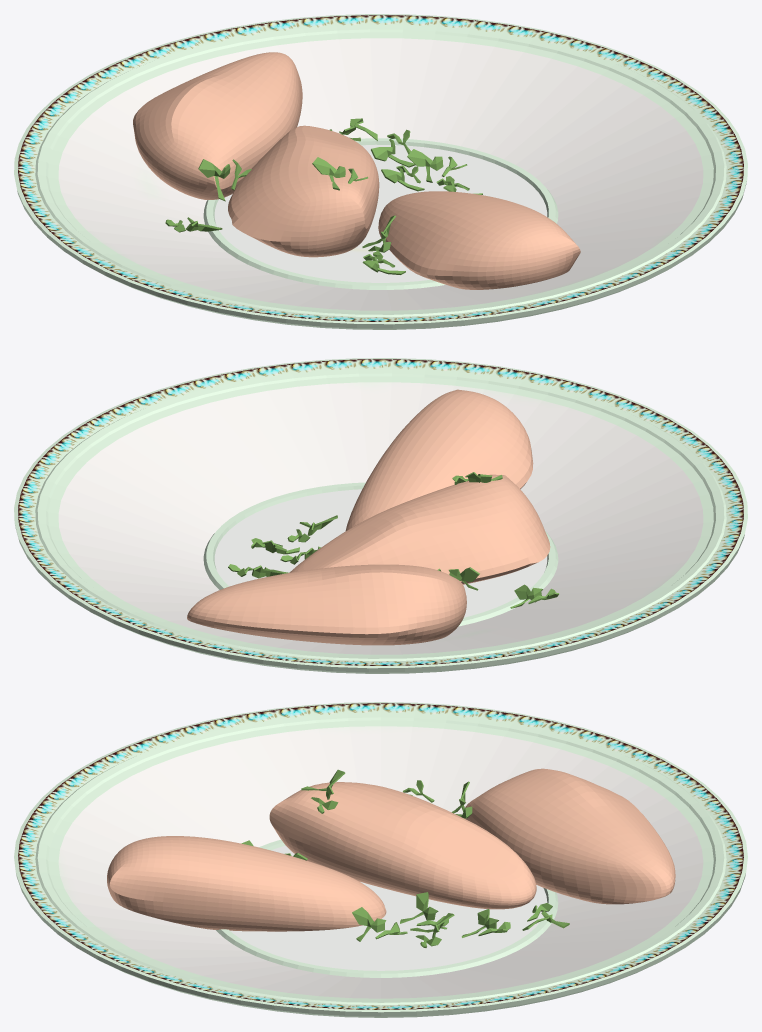
Rendered from Pechuga de pollo con perejil.fbx.
The picture shows the model from 3 angles, top to bottom: view 1: azimuth 30°, elevation 25°; view 2: azimuth 150°, elevation 25°; view 3: azimuth 270°, elevation 25°; orthographic projection.
Visible parts, largest first — view 1: Plane_Material.001_0, Cube.002_Material.002_0, Cube_Material.002_0, Cube.001_Material.002_0, Plane.004_Material.003_0, Plane.008_Material.003_0, Plane.002_Material.003_0, Plane.003_Material.003_0; view 2: Plane_Material.001_0, Cube.002_Material.002_0, Cube.001_Material.002_0, Cube_Material.002_0, Plane.005_Material.003_0; view 3: Plane_Material.001_0, Cube.001_Material.002_0, Cube_Material.002_0, Cube.002_Material.002_0, Plane.001_Material.003_0, Plane.006_Material.003_0, Plane.002_Material.003_0.
Part boxes in pixels (box(x1,y1,x2,y2)): Plane_Material.001_0: box(14, 14, 747, 329); Cube.002_Material.002_0: box(133, 52, 302, 199); Cube_Material.002_0: box(378, 191, 580, 289); Cube.001_Material.002_0: box(228, 125, 379, 257); Plane.004_Material.003_0: box(198, 159, 251, 201); Plane.008_Material.003_0: box(407, 149, 467, 182); Plane.002_Material.003_0: box(371, 129, 415, 167); Plane.003_Material.003_0: box(312, 157, 367, 190); Plane_Material.001_0: box(14, 358, 747, 673); Cube.002_Material.002_0: box(187, 564, 466, 645); Cube.001_Material.002_0: box(289, 474, 550, 584); Cube_Material.002_0: box(345, 389, 533, 530); Plane.005_Material.003_0: box(510, 584, 559, 608); Plane_Material.001_0: box(14, 702, 747, 1017); Cube.001_Material.002_0: box(269, 782, 536, 909); Cube_Material.002_0: box(107, 836, 386, 931); Cube.002_Material.002_0: box(464, 768, 675, 904); Plane.001_Material.003_0: box(352, 907, 407, 941); Plane.006_Material.003_0: box(400, 892, 448, 929); Plane.002_Material.003_0: box(461, 909, 510, 937).
Bounding box in the file's own units: 152 × 24.64 × 152.
3 materials, 1 textured.
